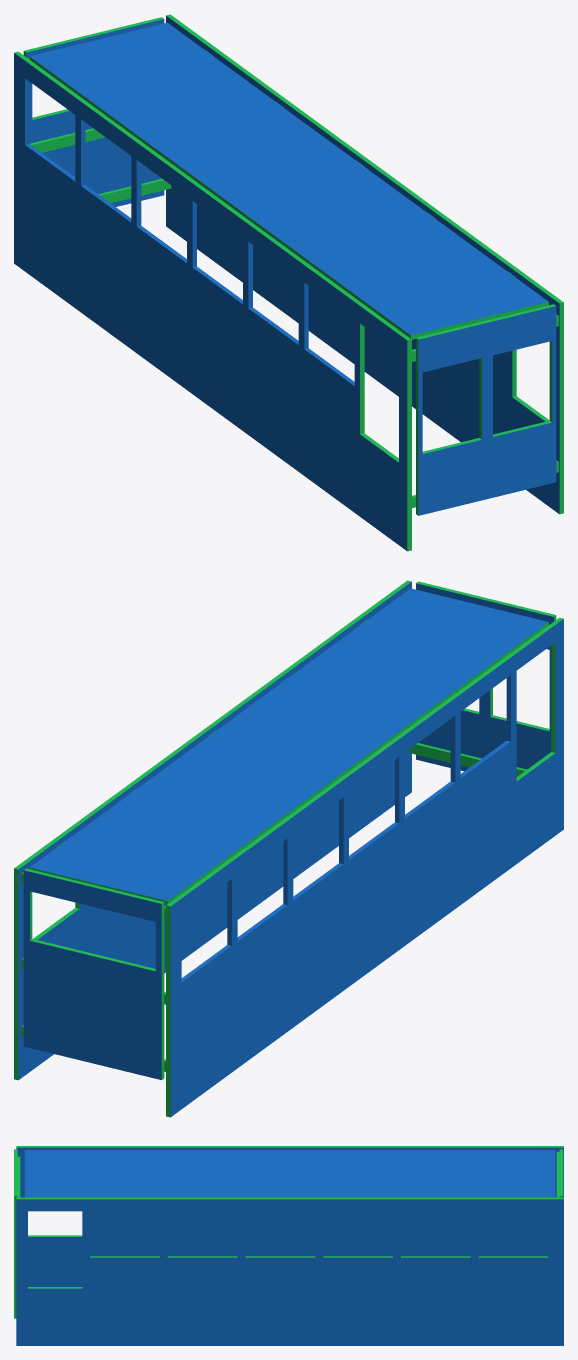
File: SM_plywood_fence_7.fbx
3 views of the same model, one above another, from view 1: azimuth 30°, elevation 25°; view 2: azimuth 150°, elevation 25°; view 3: azimuth 270°, elevation 25° (orthographic). The views are drawn at different scales.
Parts seen in each view (by area): view 1: Cube_16; view 2: Cube_16; view 3: Cube_16.
Part boxes in pixels (box(x1,y1,x2,y2)): Cube_16: box(14, 14, 563, 551); Cube_16: box(14, 580, 563, 1117); Cube_16: box(14, 1146, 563, 1345).
Bounding box in the file's own units: 248 × 319 × 1083.
